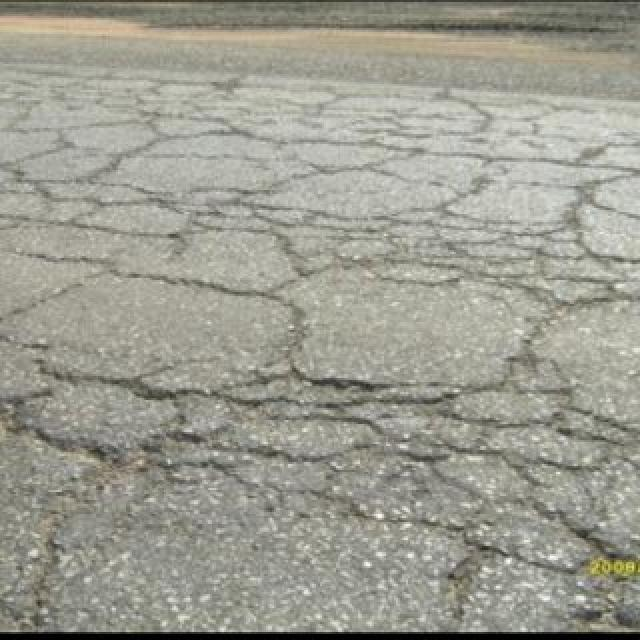Drain Hole: (86, 96, 640, 620)
